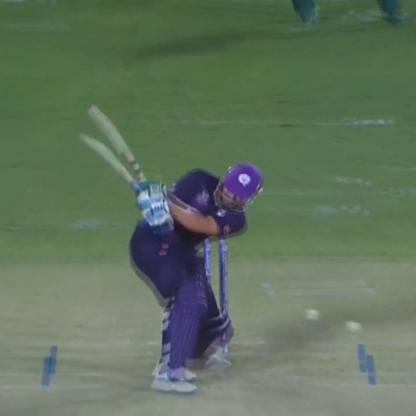ball: (296, 303, 320, 325), (341, 318, 364, 338)
bat: (81, 99, 164, 211)
pitch: (2, 311, 415, 415)
